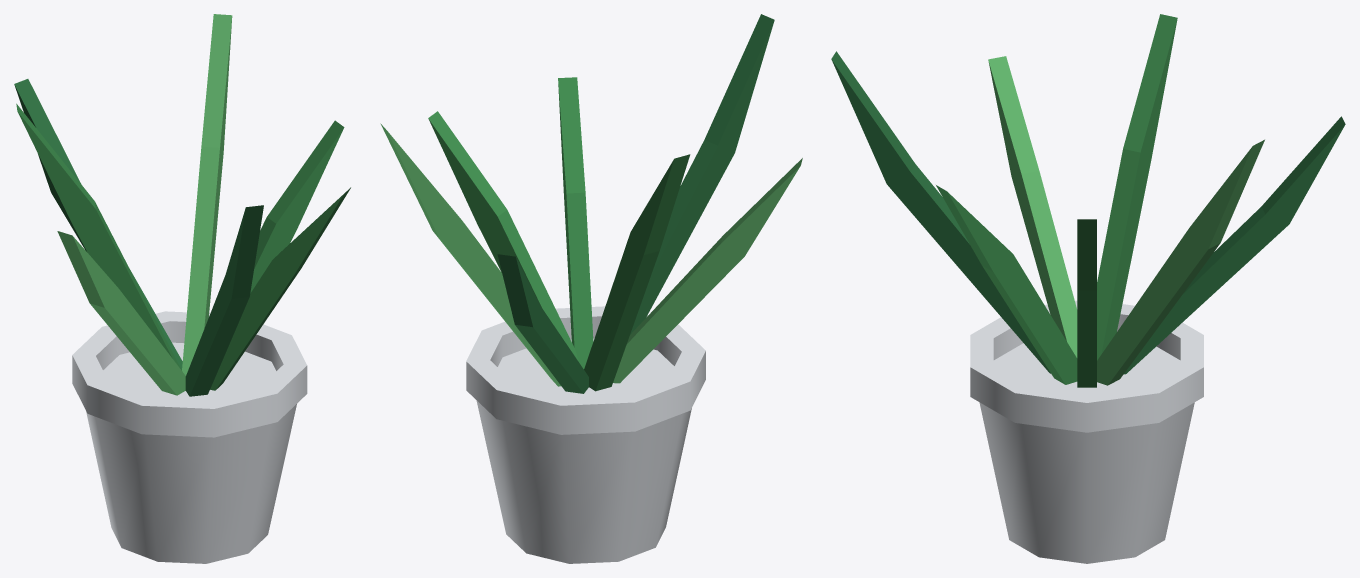
The model's file is plant_small.glb.
3 views of the same model, side by side, from view 1: azimuth 30°, elevation 25°; view 2: azimuth 150°, elevation 25°; view 3: azimuth 270°, elevation 25° (orthographic). The views are drawn at different scales.
Visible parts, largest first — view 1: plant_small; view 2: plant_small; view 3: plant_small.
Part boxes in pixels (<box>): plant_small: <box>14,14,350,563</box>; plant_small: <box>380,14,802,563</box>; plant_small: <box>831,14,1345,563</box>.
Size of the model in its own units: 0.4715 by 0.6 by 0.6277.
